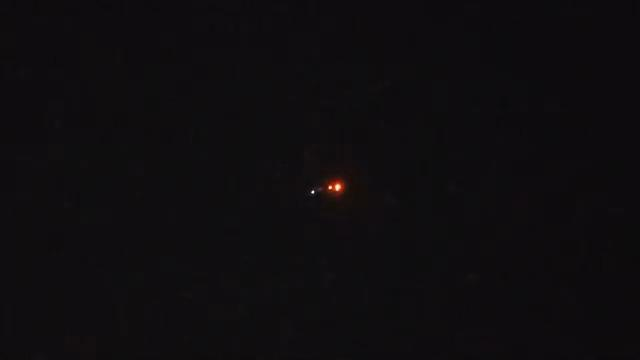Plane: (295, 176, 367, 201)
